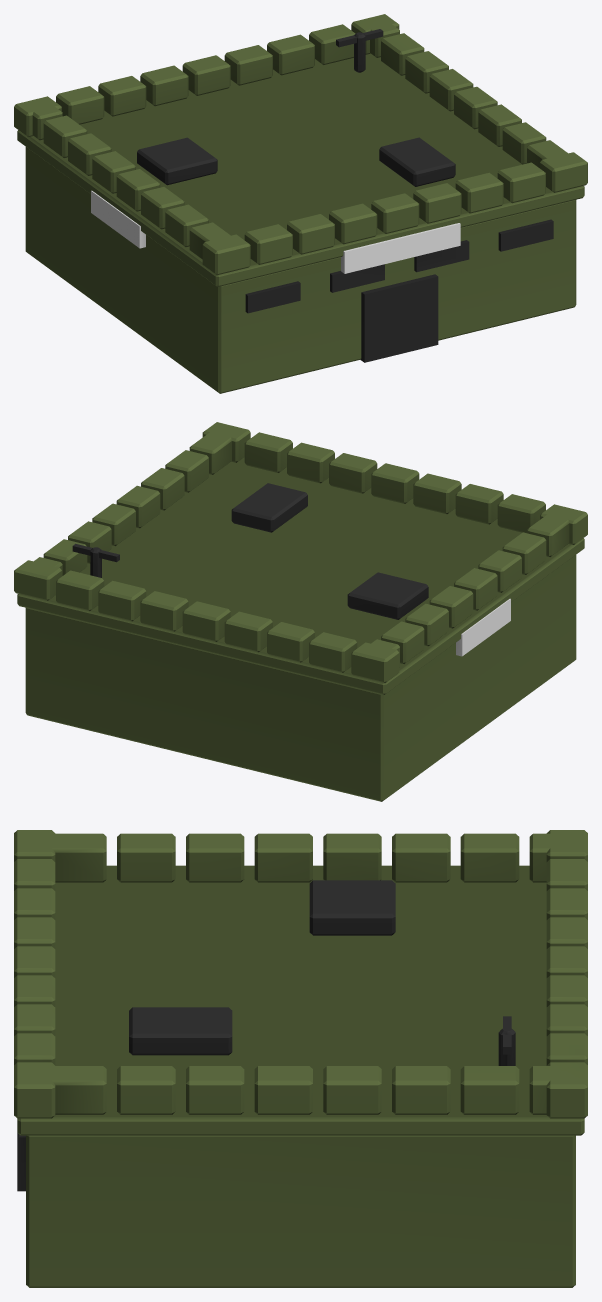
3 renders of one model, top to bottom at view 1: azimuth 30°, elevation 25°; view 2: azimuth 150°, elevation 25°; view 3: azimuth 270°, elevation 25°, orthographic. The views are drawn at different scales.
Parts seen in each view (by area): view 1: ua-hq; view 2: ua-hq; view 3: ua-hq.
Part boxes in pixels (left/top/right/bottom): ua-hq: left=14, top=14, right=587, bottom=393; ua-hq: left=14, top=422, right=587, bottom=801; ua-hq: left=14, top=830, right=587, bottom=1287.
Size of the model in its own units: 3.54 by 1.46 by 3.34.
